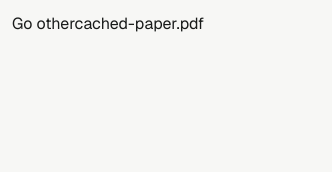
Test: Workspace navigation and state stability › shares cached document library across route unmount and remount inside SessionDataCacheProvider
Expected: the text "cached-paper.pdf" is shown, [75,13,204,34]
Click the link "Go other": point(43, 24) [12,13,75,34]
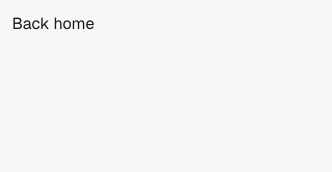
Expected: the link "Back home" is shown
Click the link "Back home": point(53, 24) [12,13,94,34]
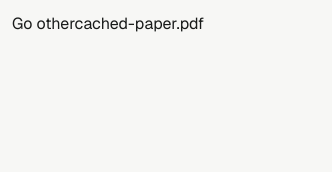
Expected: the text "cached-paper.pdf" is shown, [75,13,204,34]
